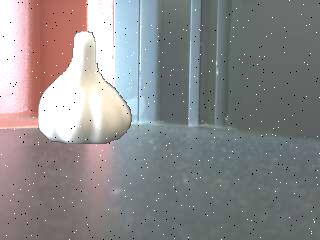Garlic: (38, 31, 131, 145)
